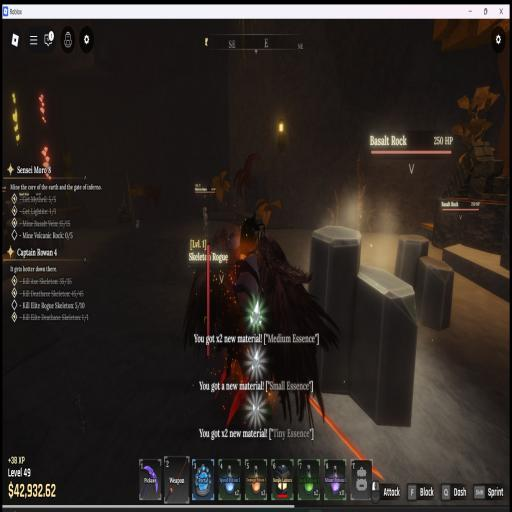player: (184, 213, 339, 426)
rock: (308, 226, 417, 426), (394, 235, 454, 329), (117, 205, 132, 223)
